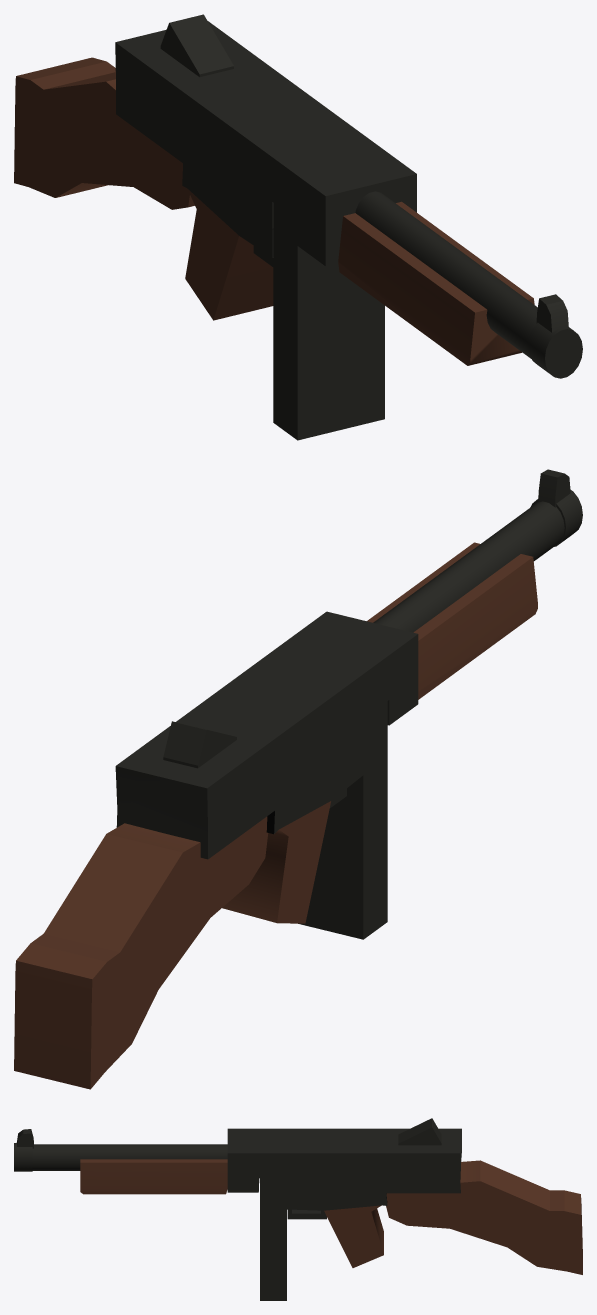
File: TommyGun.fbx
3 views of the same model, one above another, from view 1: azimuth 30°, elevation 25°; view 2: azimuth 150°, elevation 25°; view 3: azimuth 270°, elevation 25° (orthographic). The views are drawn at different scales.
Visible parts, largest first — view 1: Box001, Box004, Box002, Box006, Box003, Cylinder002, Cylinder001, Box005; view 2: Box001, Box002, Box004, Box003, Box006, Cylinder002, Box005, Cylinder001; view 3: Box001, Box002, Box006, Box003, Cylinder002, Box004, Cylinder001, Box007, Box005.
Boxes of the visible parts, box(x1,y1,x2,y2) form: Box001: box(115, 14, 416, 266); Box004: box(273, 203, 384, 440); Box002: box(14, 57, 194, 209); Box006: box(338, 201, 534, 365); Box003: box(182, 163, 273, 320); Cylinder002: box(355, 191, 537, 358); Cylinder001: box(528, 322, 582, 378); Box005: box(536, 294, 568, 332); Box001: box(115, 611, 418, 859); Box002: box(14, 816, 268, 1089); Box004: box(298, 701, 387, 939); Box003: box(222, 745, 364, 923); Box006: box(367, 542, 537, 699); Cylinder002: box(373, 501, 564, 632); Box005: box(538, 469, 570, 507); Cylinder001: box(530, 489, 582, 546); Box001: box(227, 1118, 461, 1193); Box002: box(386, 1160, 582, 1274); Box006: box(80, 1159, 227, 1194); Box003: box(286, 1193, 387, 1267); Cylinder002: box(32, 1144, 227, 1170); Box004: box(260, 1178, 286, 1300); Cylinder001: box(14, 1143, 32, 1171); Box007: box(287, 1209, 326, 1219); Box005: box(16, 1129, 33, 1148).
Size of the model in its own units: 5.83 by 56.5 by 18.19.
